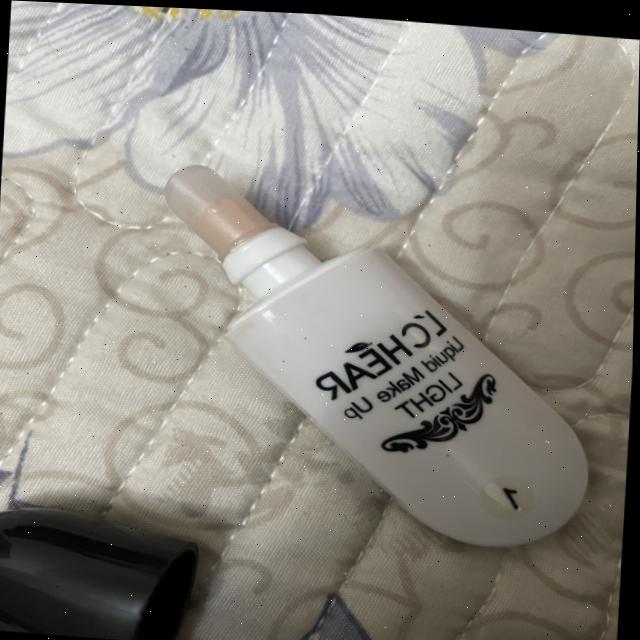concealer: (100, 140, 620, 551)
